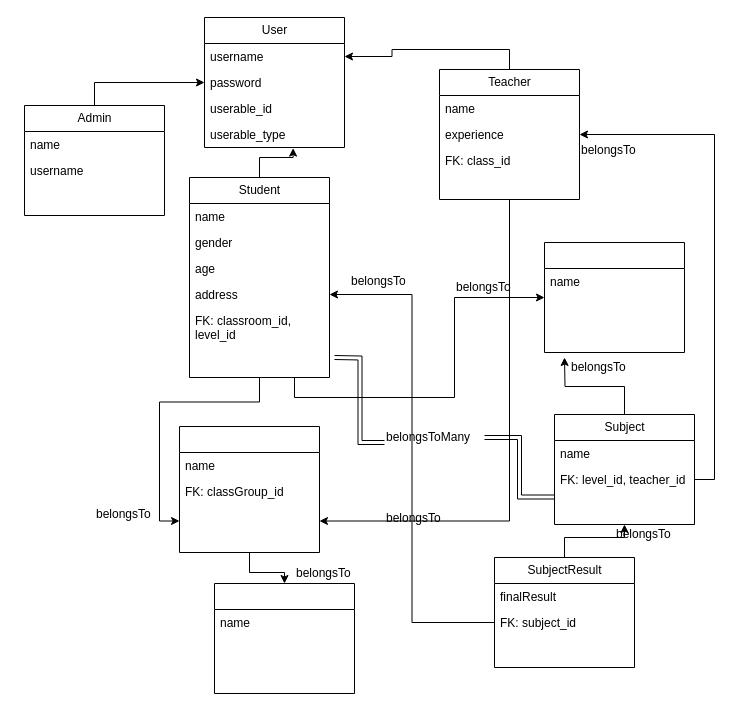
Some shapes in this 740 by 711 pixel diagram are drawn without their labels. The box of each missing label's shape, as (x1, y1, x2, y2) in pixels:
ClassGroup: (214, 582, 354, 694)
Classroom: (178, 426, 320, 552)
Level: (544, 242, 684, 352)
